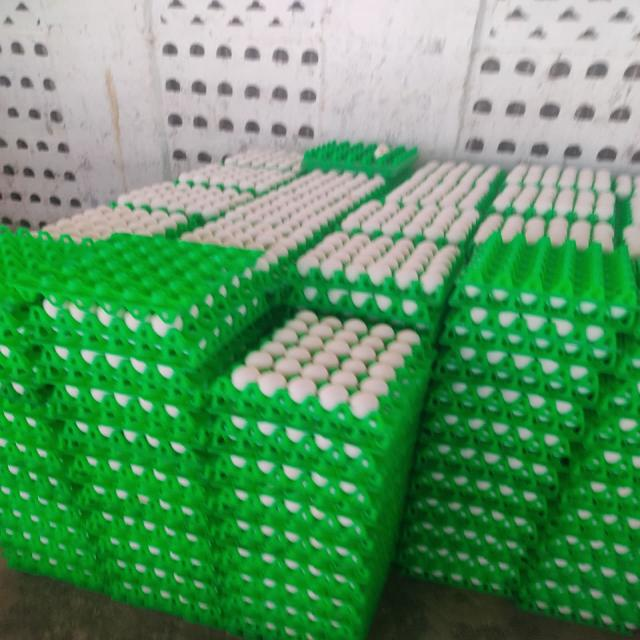egg_tray: (31, 235, 265, 365), (45, 320, 263, 456), (217, 416, 412, 566), (212, 311, 429, 442), (69, 442, 402, 524), (31, 294, 279, 400), (33, 302, 267, 406), (212, 476, 397, 604), (216, 489, 392, 622), (206, 470, 403, 588), (207, 490, 383, 619), (220, 476, 382, 615), (43, 235, 260, 337), (216, 489, 393, 610), (206, 473, 403, 581), (205, 427, 412, 524), (182, 171, 383, 270), (35, 324, 231, 421), (451, 234, 637, 332), (231, 318, 415, 416), (31, 276, 258, 354), (109, 557, 330, 637), (537, 434, 639, 600), (292, 232, 461, 328), (205, 451, 403, 528), (228, 522, 371, 628), (548, 434, 639, 600), (397, 489, 534, 594), (215, 416, 404, 486), (414, 410, 569, 492), (229, 558, 383, 640), (181, 192, 341, 270), (530, 488, 639, 600), (412, 435, 562, 516), (411, 443, 563, 522), (35, 343, 221, 407), (216, 565, 373, 640), (399, 486, 535, 570), (0, 227, 93, 349), (441, 306, 618, 370), (96, 530, 221, 620), (67, 450, 206, 530), (222, 567, 373, 640), (59, 434, 204, 510), (191, 572, 353, 640), (443, 306, 615, 370), (399, 490, 536, 570), (43, 376, 205, 442), (73, 456, 209, 534), (0, 226, 81, 351), (3, 491, 101, 590), (437, 346, 599, 405), (567, 382, 639, 514), (57, 412, 205, 476), (85, 503, 213, 577), (87, 509, 213, 582), (527, 525, 639, 607), (0, 470, 93, 566), (563, 430, 639, 546), (412, 436, 561, 495), (554, 439, 639, 542), (22, 498, 114, 592), (521, 556, 637, 630), (563, 403, 639, 515), (399, 498, 534, 561), (402, 483, 537, 546), (0, 226, 69, 348), (532, 514, 639, 592), (426, 379, 583, 432), (519, 567, 639, 635), (14, 512, 115, 592), (103, 558, 220, 626), (94, 558, 218, 622), (58, 416, 207, 468), (419, 409, 570, 460), (108, 562, 223, 628), (0, 486, 93, 566), (410, 467, 547, 520), (518, 574, 639, 634), (225, 592, 364, 640), (173, 594, 320, 638), (3, 528, 104, 591), (0, 226, 77, 308), (341, 200, 480, 245), (399, 544, 519, 596), (0, 478, 87, 548), (41, 205, 203, 242), (0, 370, 57, 472), (385, 161, 503, 210), (0, 465, 81, 536), (0, 432, 69, 514), (399, 546, 512, 596), (473, 213, 614, 252), (0, 434, 72, 507), (116, 182, 253, 220), (574, 432, 639, 512), (0, 517, 94, 572), (553, 488, 639, 548), (302, 140, 417, 184), (3, 544, 104, 592), (275, 170, 385, 213), (491, 184, 615, 222), (0, 430, 68, 497), (0, 429, 66, 494), (0, 252, 39, 346), (177, 164, 296, 194), (0, 346, 46, 416), (0, 342, 46, 412), (505, 164, 613, 192), (0, 403, 57, 450), (0, 324, 37, 388), (0, 518, 57, 557), (0, 368, 47, 415), (0, 299, 37, 358), (0, 224, 43, 274), (223, 148, 303, 173), (592, 412, 639, 450), (0, 332, 36, 380), (599, 375, 639, 416), (419, 494, 489, 514), (619, 193, 639, 259), (611, 336, 639, 380), (111, 582, 150, 608), (0, 414, 37, 440), (622, 209, 639, 260), (613, 174, 639, 200), (9, 548, 34, 570), (623, 226, 639, 260), (148, 530, 177, 548), (234, 580, 262, 596), (131, 530, 155, 548), (61, 430, 80, 449), (230, 315, 246, 336), (232, 582, 262, 592), (3, 538, 20, 554), (563, 488, 579, 504), (215, 500, 236, 512), (398, 447, 410, 466), (55, 344, 71, 358), (441, 549, 468, 557), (155, 538, 170, 552), (300, 564, 317, 576), (137, 433, 159, 442), (172, 478, 188, 490), (77, 462, 93, 474), (13, 558, 29, 570), (609, 417, 635, 424), (75, 420, 89, 432), (33, 569, 57, 576), (339, 472, 352, 484), (581, 499, 592, 512), (603, 561, 616, 572), (189, 546, 201, 557), (620, 557, 631, 568), (281, 592, 293, 602), (134, 556, 148, 564), (174, 566, 185, 576), (7, 545, 17, 556), (288, 585, 303, 592), (283, 558, 294, 567), (85, 353, 94, 364), (479, 527, 493, 534), (403, 454, 410, 468), (265, 578, 277, 586), (0, 244, 10, 253), (102, 522, 111, 532), (43, 445, 51, 456), (291, 598, 303, 605), (74, 518, 81, 530), (236, 490, 245, 499), (283, 558, 293, 566), (33, 514, 43, 522), (0, 391, 5, 406), (139, 531, 147, 540), (249, 490, 258, 498), (541, 556, 549, 565), (99, 425, 109, 432), (506, 420, 517, 426), (633, 557, 639, 568), (313, 472, 321, 480), (267, 578, 275, 586), (243, 522, 251, 530), (404, 458, 409, 470), (37, 460, 47, 466), (175, 443, 185, 449), (152, 604, 162, 610), (117, 492, 125, 499), (157, 474, 165, 481), (394, 496, 401, 504), (0, 466, 6, 475), (633, 521, 639, 530), (633, 520, 639, 529), (592, 480, 601, 486), (577, 570, 583, 579), (526, 422, 535, 428), (142, 554, 147, 564), (177, 564, 182, 574), (189, 535, 196, 542), (203, 616, 209, 624), (615, 613, 621, 621), (289, 607, 297, 613), (23, 541, 31, 547), (273, 570, 279, 578), (0, 466, 6, 474), (335, 572, 343, 578), (352, 531, 361, 536), (140, 556, 149, 561), (14, 508, 21, 514), (117, 339, 125, 344), (45, 346, 50, 354), (300, 590, 305, 598), (389, 473, 393, 482), (158, 572, 164, 578), (210, 492, 216, 498), (161, 590, 167, 596), (279, 532, 283, 541), (632, 388, 637, 395), (34, 514, 39, 521), (583, 483, 588, 490), (237, 490, 245, 494), (337, 376, 345, 380), (17, 524, 25, 528), (252, 490, 257, 496), (523, 538, 529, 543), (632, 518, 637, 524), (15, 420, 20, 426), (336, 612, 341, 618), (29, 292, 35, 297), (107, 492, 112, 498), (3, 282, 8, 288), (14, 532, 19, 538), (128, 518, 135, 522), (590, 544, 597, 548), (150, 470, 159, 473), (114, 532, 119, 537), (40, 263, 45, 268), (334, 580, 339, 585), (336, 573, 341, 578), (261, 460, 267, 464), (3, 460, 7, 466), (149, 354, 155, 358), (15, 419, 19, 425), (56, 334, 59, 342), (280, 428, 286, 432), (621, 487, 629, 490), (51, 336, 55, 342), (267, 602, 271, 608), (36, 496, 44, 499), (369, 596, 373, 602), (501, 532, 507, 536), (629, 383, 636, 386), (2, 296, 5, 303), (303, 622, 310, 625), (155, 560, 160, 564), (352, 590, 357, 594), (319, 572, 324, 576), (449, 540, 454, 544), (236, 416, 241, 420), (245, 574, 249, 579), (377, 576, 381, 581), (34, 514, 39, 518), (334, 580, 339, 584), (3, 347, 7, 352), (601, 556, 605, 561), (171, 290, 177, 293), (603, 509, 609, 512), (291, 590, 297, 593), (29, 471, 35, 474), (69, 420, 73, 424), (185, 570, 193, 572), (87, 554, 91, 558), (4, 520, 8, 524), (593, 482, 601, 484), (37, 428, 41, 432), (171, 446, 175, 450), (37, 367, 39, 375), (51, 562, 55, 566), (193, 521, 197, 525), (628, 410, 632, 414), (395, 512, 399, 516), (109, 536, 113, 540), (77, 429, 82, 432), (10, 390, 13, 395), (2, 346, 7, 349), (350, 445, 355, 448), (211, 510, 214, 515), (72, 467, 75, 472), (187, 513, 192, 516), (178, 512, 181, 517), (76, 558, 81, 561), (113, 468, 118, 471), (236, 494, 239, 499), (345, 485, 350, 488), (96, 530, 99, 535), (114, 516, 119, 519), (178, 614, 185, 616), (265, 584, 272, 586), (281, 593, 285, 596), (173, 533, 176, 537), (107, 522, 110, 526), (49, 366, 52, 370), (209, 490, 211, 496), (214, 326, 217, 330), (78, 496, 81, 500), (165, 609, 169, 612), (143, 587, 149, 589), (167, 482, 171, 485), (336, 622, 339, 626), (347, 561, 351, 564), (234, 500, 237, 504), (75, 520, 79, 523), (521, 420, 525, 423), (236, 584, 240, 587), (633, 578, 636, 582), (427, 479, 431, 482), (237, 579, 239, 584), (636, 612, 638, 617), (238, 490, 243, 492), (14, 566, 19, 568), (45, 238, 50, 240), (23, 568, 28, 570), (7, 509, 9, 514), (146, 522, 151, 524), (25, 327, 27, 332), (512, 526, 517, 528), (224, 287, 227, 290), (50, 547, 53, 550), (39, 310, 41, 314), (273, 425, 275, 429), (521, 526, 525, 528), (263, 594, 267, 596), (198, 416, 202, 418), (336, 636, 344, 637), (601, 410, 605, 412), (57, 475, 61, 477), (267, 194, 271, 196), (258, 276, 260, 280), (147, 522, 151, 524), (510, 531, 514, 533), (465, 524, 467, 528), (292, 405, 294, 408), (387, 338, 389, 341), (312, 596, 315, 598), (230, 506, 233, 508), (247, 601, 249, 604), (149, 521, 152, 523), (515, 574, 517, 577), (372, 540, 374, 543), (306, 618, 309, 620), (38, 472, 41, 474), (5, 524, 8, 526), (96, 470, 99, 472), (321, 573, 324, 575), (172, 469, 174, 472), (601, 558, 604, 560), (593, 548, 596, 550), (489, 527, 491, 530), (303, 471, 308, 472), (337, 604, 339, 606), (128, 534, 130, 536), (305, 510, 307, 512), (114, 364, 116, 366), (45, 421, 47, 423), (170, 392, 172, 394), (268, 320, 270, 322), (610, 618, 612, 620), (619, 390, 621, 392), (79, 328, 81, 330), (5, 360, 7, 362), (169, 594, 171, 596), (125, 470, 127, 472), (61, 416, 63, 418), (311, 608, 313, 610), (365, 571, 369, 572), (23, 492, 25, 494), (346, 582, 348, 584), (351, 567, 355, 568), (461, 485, 463, 487), (381, 434, 383, 436), (151, 546, 153, 548), (483, 527, 485, 529), (154, 527, 157, 528), (636, 617, 637, 620), (172, 327, 175, 328), (331, 607, 332, 610), (272, 592, 275, 593), (247, 571, 249, 572), (249, 461, 250, 463), (179, 516, 181, 517), (0, 234, 1, 236), (7, 514, 8, 516), (167, 358, 169, 359), (7, 493, 9, 494), (569, 516, 570, 518), (623, 618, 625, 619), (596, 596, 597, 598), (365, 386, 366, 388), (71, 551, 72, 553), (224, 321, 225, 323), (368, 553, 369, 555), (356, 509, 357, 511), (165, 447, 166, 449), (316, 618, 317, 620), (21, 473, 22, 475), (35, 456, 37, 457), (606, 411, 607, 413), (636, 391, 637, 393), (225, 584, 226, 586), (53, 564, 54, 566), (396, 509, 398, 510), (174, 532, 175, 534), (151, 560, 152, 562), (634, 544, 635, 546), (594, 535, 595, 537), (236, 496, 237, 497), (407, 462, 408, 463), (194, 545, 195, 546), (397, 483, 399, 483), (396, 474, 397, 474), (173, 328, 175, 328), (188, 514, 190, 514), (161, 505, 161, 505), (83, 490, 83, 490), (134, 441, 135, 441), (132, 432, 134, 432), (343, 619, 343, 619), (124, 534, 126, 534), (139, 528, 139, 528), (253, 492, 255, 492), (43, 261, 43, 262), (7, 261, 8, 261), (265, 555, 267, 555), (169, 361, 170, 361), (38, 481, 39, 481), (16, 472, 17, 472), (568, 510, 570, 510), (107, 447, 108, 447), (90, 337, 92, 337), (71, 243, 72, 243), (626, 619, 628, 619), (263, 423, 263, 424), (635, 439, 636, 439), (69, 550, 71, 550), (0, 512, 1, 512), (91, 345, 92, 345), (256, 314, 257, 314), (569, 539, 570, 539), (79, 536, 82, 536), (161, 504, 161, 506), (59, 248, 59, 248), (316, 632, 317, 632), (163, 603, 163, 604), (103, 470, 107, 470), (203, 421, 203, 421), (317, 636, 324, 636), (613, 418, 614, 418), (334, 466, 335, 466), (225, 581, 227, 581), (53, 474, 54, 474), (618, 592, 619, 592), (212, 445, 213, 445), (121, 561, 121, 562), (272, 541, 274, 541), (205, 623, 205, 623), (418, 403, 419, 403), (156, 561, 157, 561), (594, 548, 595, 548), (116, 556, 117, 556), (5, 547, 6, 547), (639, 229, 639, 231), (21, 332, 21, 333), (609, 559, 610, 559), (573, 532, 577, 532), (567, 532, 568, 532)
